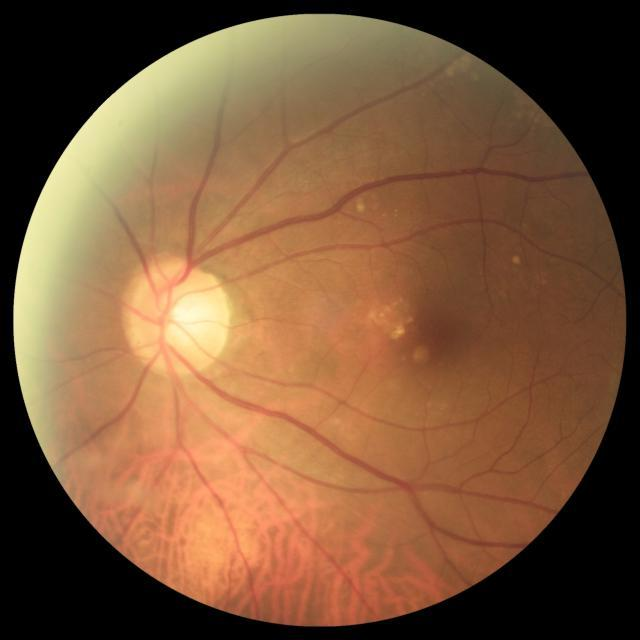OC: (157, 290, 206, 346)
OD: (120, 257, 232, 374)
